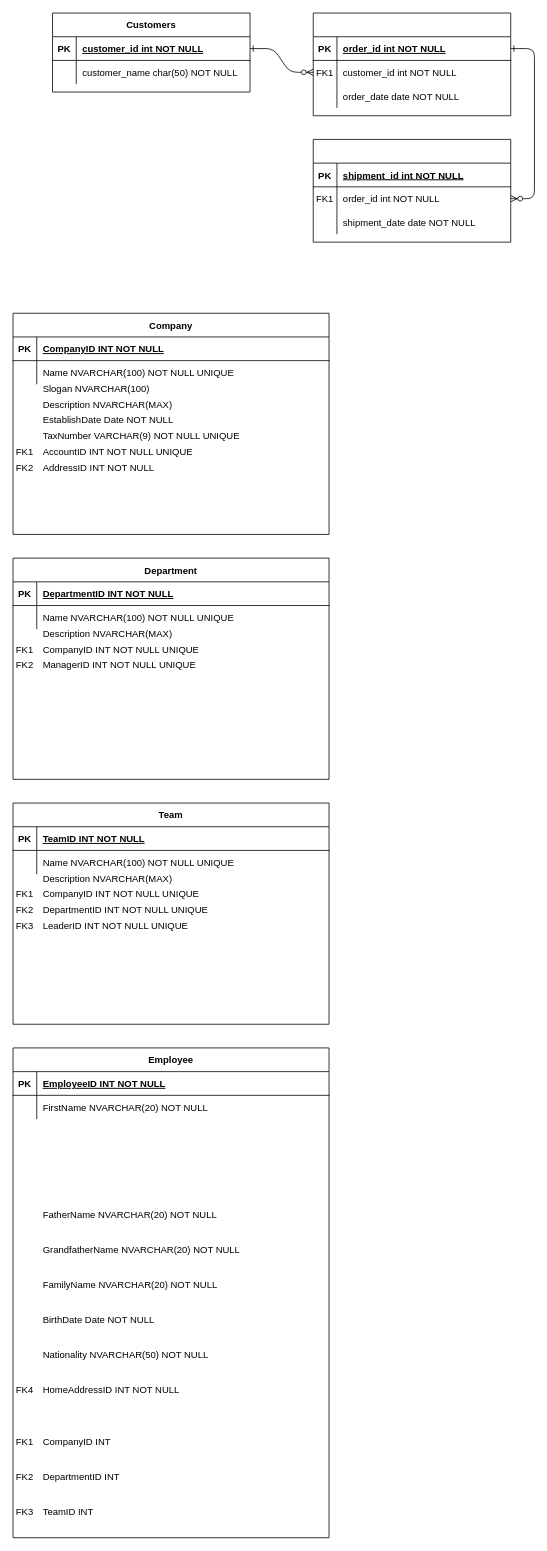
Some shapes in this 547 by 1551 pixel diagram are drawn without their labels. The box of each missing label's shape, as (x1, y1, x2, y2) in pixels:
Orders: (312, 12, 511, 116)
Shipments: (312, 139, 511, 242)
